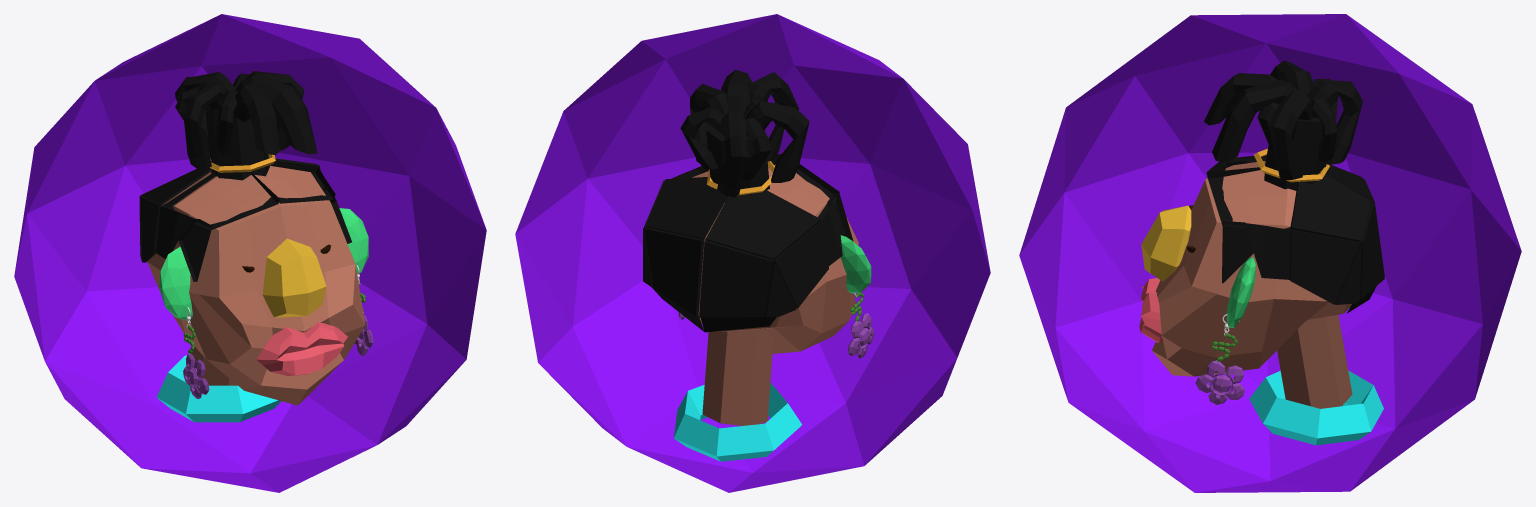
The model's file is xaeuzin.glb.
The picture shows the model from 3 angles, left to right: view 1: azimuth 30°, elevation 25°; view 2: azimuth 150°, elevation 25°; view 3: azimuth 270°, elevation 25°; orthographic projection. The views are drawn at different scales.
Visible parts, largest first — view 1: Icosphere.011, Cube.010, Plane.003, Cube.009, Torus.063, Cube.008, Icosphere.003, Cylinder.059, Cylinder.055, Cylinder.061, Plane.002, Cylinder.060 (+4 smaller); view 2: Icosphere.011, Plane.002, Cylinder.062, Cube.010, Torus.063, Cylinder.059, Cylinder.057, Plane.003, Cylinder.056, Cylinder.061, Icosphere.003, Cylinder.060 (+2 smaller); view 3: Icosphere.011, Cube.010, Plane.002, Torus.063, Cylinder.062, Plane.003, Cylinder.059, Cube.009, Cylinder.055, Cylinder.056, Cylinder.061, Cylinder.060 (+3 smaller).
Part boxes in pixels (x1,y1,x2,y2): Icosphere.011: (14, 14, 486, 492); Cube.010: (147, 166, 365, 405); Plane.003: (156, 162, 351, 281); Cube.009: (262, 238, 326, 317); Torus.063: (156, 355, 281, 422); Cube.008: (256, 322, 347, 375); Icosphere.003: (159, 208, 368, 320); Cylinder.059: (183, 71, 304, 169); Cylinder.055: (235, 73, 317, 154); Cylinder.061: (205, 107, 269, 180); Plane.002: (139, 158, 320, 262); Cylinder.060: (234, 84, 279, 154); Icosphere.011: (515, 14, 990, 492); Plane.002: (643, 177, 828, 332); Cylinder.062: (702, 329, 773, 425); Cube.010: (692, 164, 858, 353); Torus.063: (674, 382, 802, 461); Cylinder.059: (690, 84, 809, 182); Cylinder.057: (680, 107, 770, 180); Plane.003: (671, 154, 853, 265); Cylinder.056: (717, 111, 748, 197); Cylinder.061: (706, 125, 769, 202); Icosphere.003: (840, 235, 871, 293); Cylinder.060: (748, 72, 799, 110); Icosphere.011: (1019, 14, 1521, 492); Cube.010: (1152, 161, 1351, 376); Plane.002: (1290, 164, 1384, 313); Torus.063: (1249, 370, 1383, 445); Cylinder.062: (1277, 315, 1352, 408); Plane.003: (1206, 155, 1291, 283); Cylinder.059: (1268, 60, 1313, 180); Cube.009: (1141, 205, 1191, 281); Cylinder.055: (1212, 79, 1297, 162); Cylinder.056: (1308, 79, 1362, 164); Cylinder.061: (1264, 111, 1335, 190); Cylinder.060: (1204, 73, 1277, 125).
Bounding box in the file's own units: 7.44 × 7.78 × 7.78.
